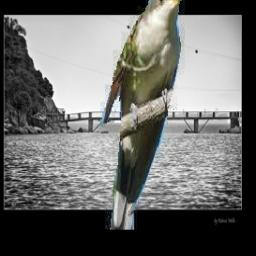Cuckoo: (100, 0, 188, 231)
